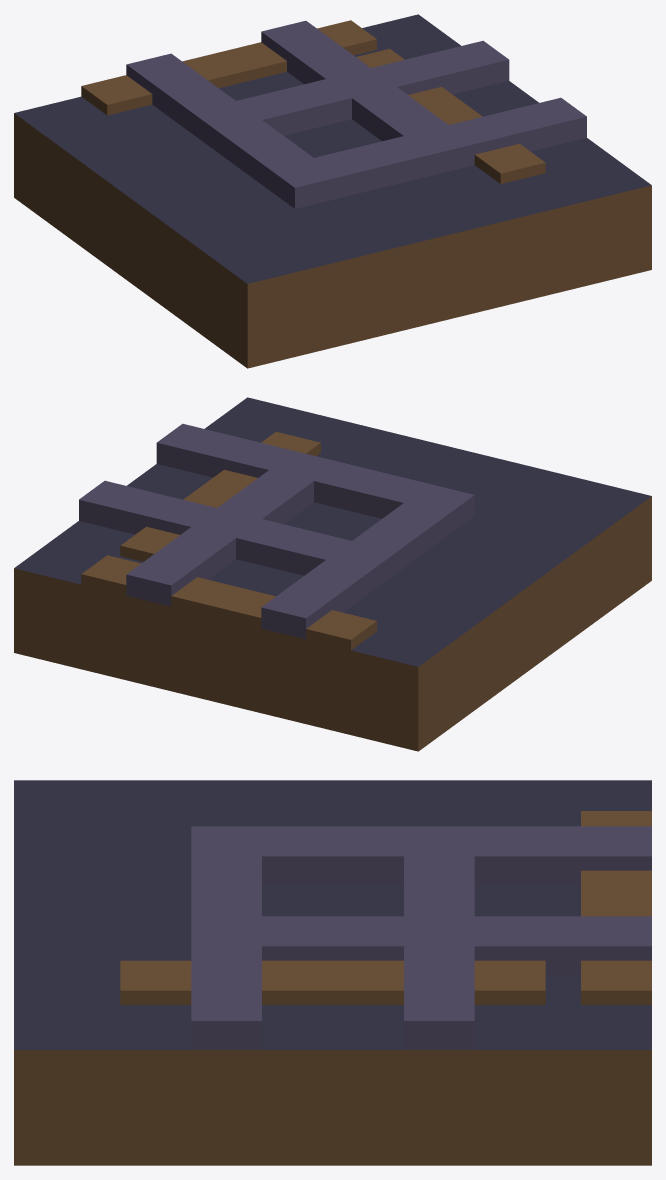
The model's file is rail_corner.fbx.
3 renders of one model, top to bottom at view 1: azimuth 30°, elevation 25°; view 2: azimuth 150°, elevation 25°; view 3: azimuth 270°, elevation 25°, orthographic. The views are drawn at different scales.
Visible parts, largest first — view 1: Cube.088; view 2: Cube.088; view 3: Cube.088.
Part boxes in pixels (x1,y1,x2,y2): Cube.088: (14,14,651,368); Cube.088: (14,397,651,751); Cube.088: (14,780,651,1165).
Size of the model in its own units: 1000 by 250 by 1000.
Materials: 1 (1 with a texture image).
